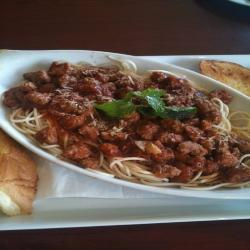bolonese_pasta: (18, 68, 250, 194)
bread: (1, 130, 38, 220), (195, 52, 250, 102)
